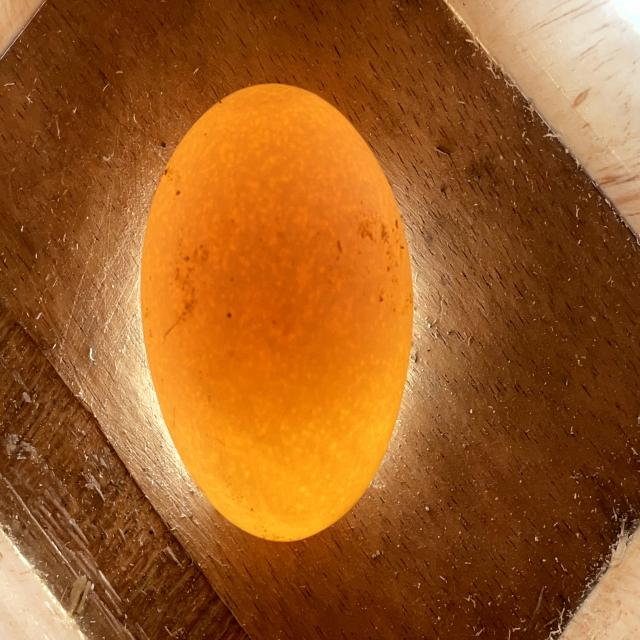infertile: (141, 83, 412, 542)
